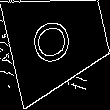O_E: (33, 14, 83, 69)
